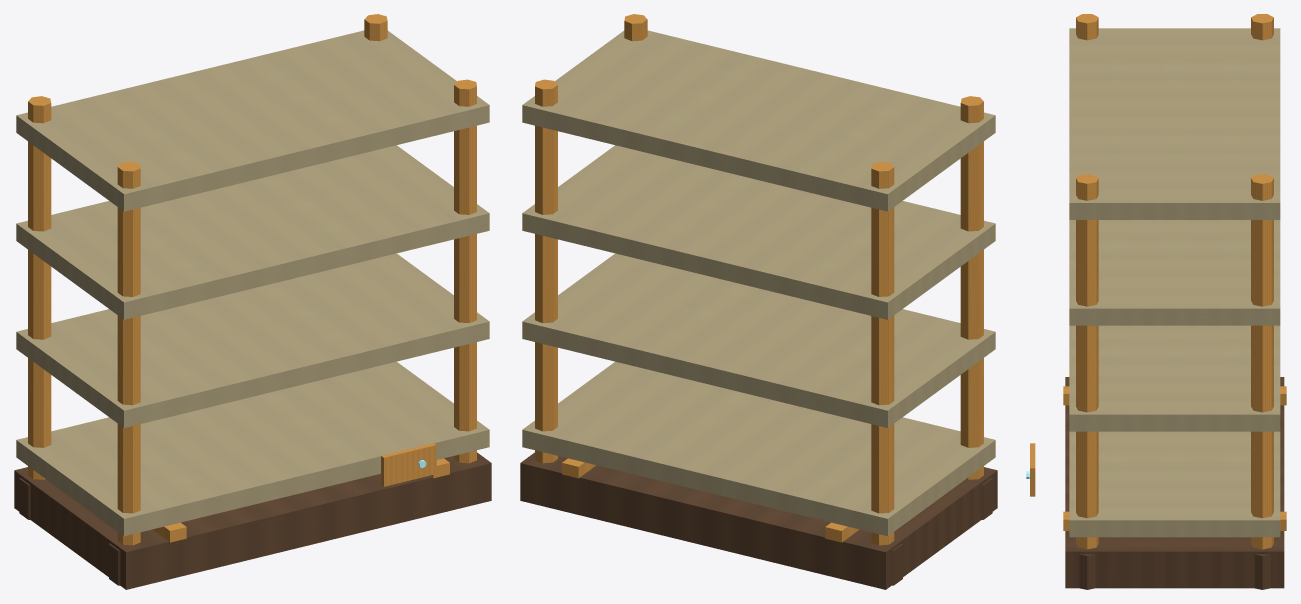
The model's file is atlas100-s014-a06.lod1.glb.
The picture shows the model from 3 angles, left to right: view 1: azimuth 30°, elevation 25°; view 2: azimuth 150°, elevation 25°; view 3: azimuth 270°, elevation 25°; orthographic projection. The views are drawn at different scales.
Parts seen in each view (by area): view 1: atlas100-s014-a06:part-014, atlas100-s014-a06:part-013, atlas100-s014-a06:part-012, atlas100-s014-a06:part-011, atlas100-s014-a06:part-000, atlas100-s014-a06:part-005, atlas100-s014-a06:part-009, atlas100-s014-a06:part-003, atlas100-s014-a06:part-015; view 2: atlas100-s014-a06:part-014, atlas100-s014-a06:part-011, atlas100-s014-a06:part-013, atlas100-s014-a06:part-012, atlas100-s014-a06:part-000, atlas100-s014-a06:part-003, atlas100-s014-a06:part-007, atlas100-s014-a06:part-005; view 3: atlas100-s014-a06:part-014, atlas100-s014-a06:part-011, atlas100-s014-a06:part-012, atlas100-s014-a06:part-013, atlas100-s014-a06:part-000, atlas100-s014-a06:part-007, atlas100-s014-a06:part-009, atlas100-s014-a06:part-008, atlas100-s014-a06:part-010, atlas100-s014-a06:part-003, atlas100-s014-a06:part-005.
Boxes of the visible parts, x1,y1,x2,y2 form: atlas100-s014-a06:part-014: (16,30,489,211); atlas100-s014-a06:part-013: (16,145,489,319); atlas100-s014-a06:part-012: (16,253,489,427); atlas100-s014-a06:part-011: (16,361,489,536); atlas100-s014-a06:part-000: (14,452,491,589); atlas100-s014-a06:part-005: (117,161,140,545); atlas100-s014-a06:part-009: (454,79,476,463); atlas100-s014-a06:part-003: (28,96,51,479); atlas100-s014-a06:part-015: (381,443,436,486); atlas100-s014-a06:part-014: (522,30,995,211); atlas100-s014-a06:part-011: (522,361,995,536); atlas100-s014-a06:part-013: (522,145,995,319); atlas100-s014-a06:part-012: (522,253,995,427); atlas100-s014-a06:part-000: (520,452,997,589); atlas100-s014-a06:part-003: (871,161,894,545); atlas100-s014-a06:part-007: (535,79,557,463); atlas100-s014-a06:part-005: (960,96,983,479); atlas100-s014-a06:part-014: (1069,28,1280,219); atlas100-s014-a06:part-011: (1069,431,1280,537); atlas100-s014-a06:part-012: (1069,325,1280,431); atlas100-s014-a06:part-013: (1069,220,1280,325); atlas100-s014-a06:part-000: (1065,377,1284,588); atlas100-s014-a06:part-007: (1251,174,1273,549); atlas100-s014-a06:part-009: (1076,174,1098,549); atlas100-s014-a06:part-008: (1254,554,1270,589); atlas100-s014-a06:part-010: (1079,554,1095,589); atlas100-s014-a06:part-003: (1251,14,1273,40); atlas100-s014-a06:part-005: (1076,14,1098,40).
Bounding box in the file's own units: 2.68 × 2.84 × 1.66.
Materials: 4 (4 with a texture image).
